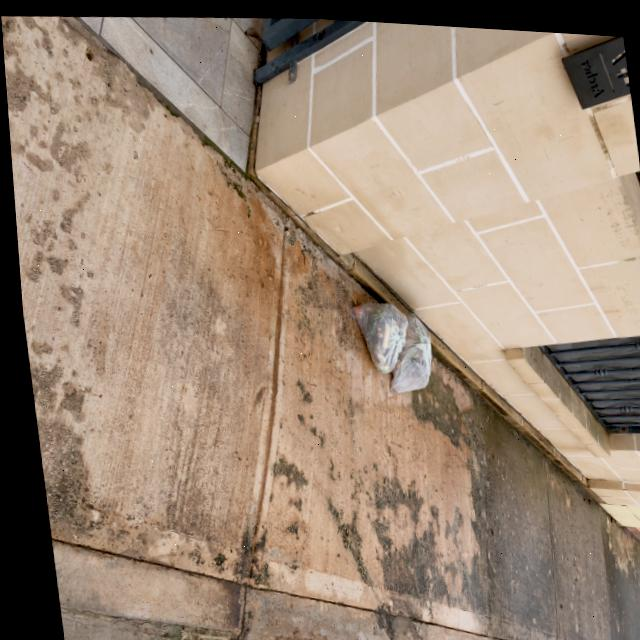Organic Waste -White Bag-: (375, 305, 433, 395), (347, 294, 410, 374)
